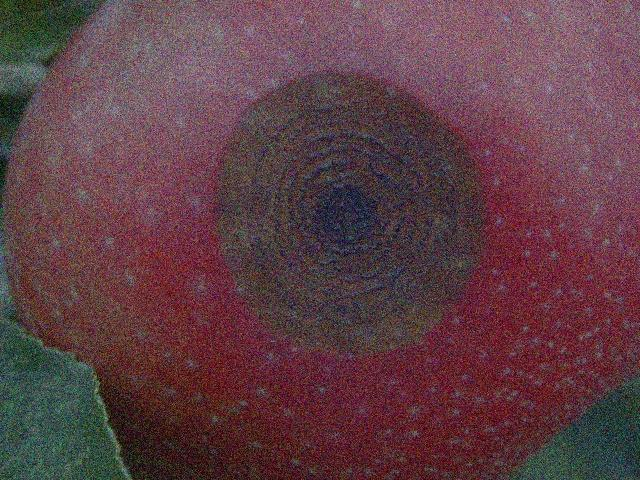rotten apple: (1, 1, 640, 480)
